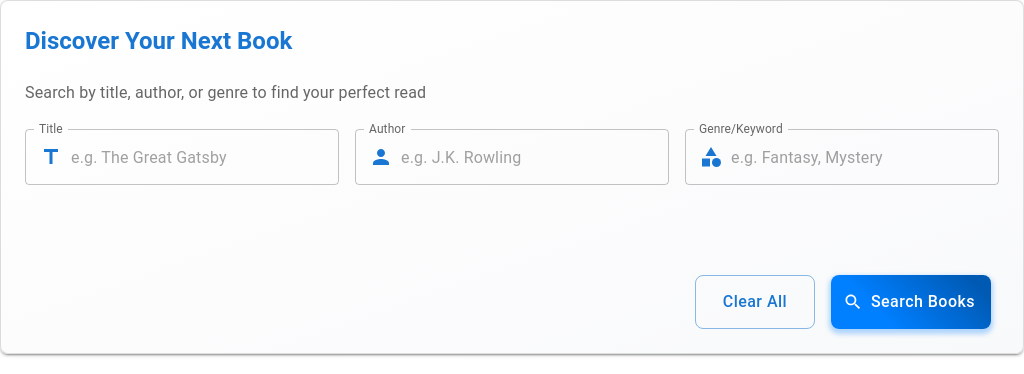
Scenario: SearchForm › handles search error
Step 1. Type "Test Book" into the field labelled "Title" → (205, 157), box left=71, top=129, right=339, bottom=185
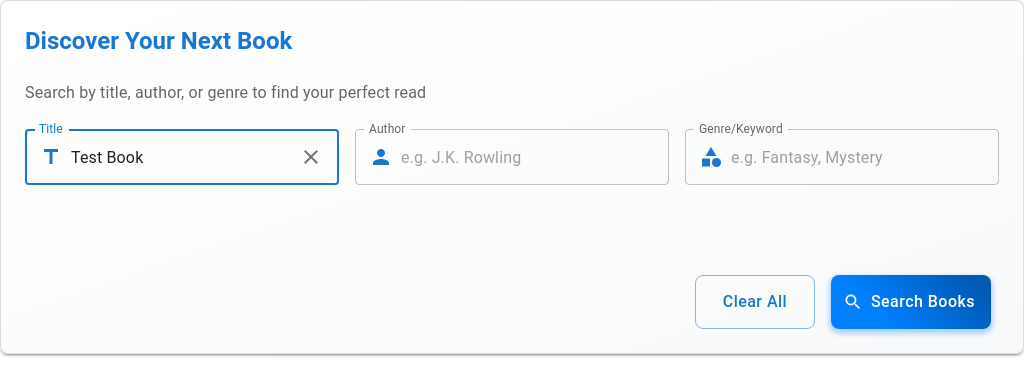
Step 2. Click the button "Search Books" → (911, 302), box left=831, top=275, right=991, bottom=329
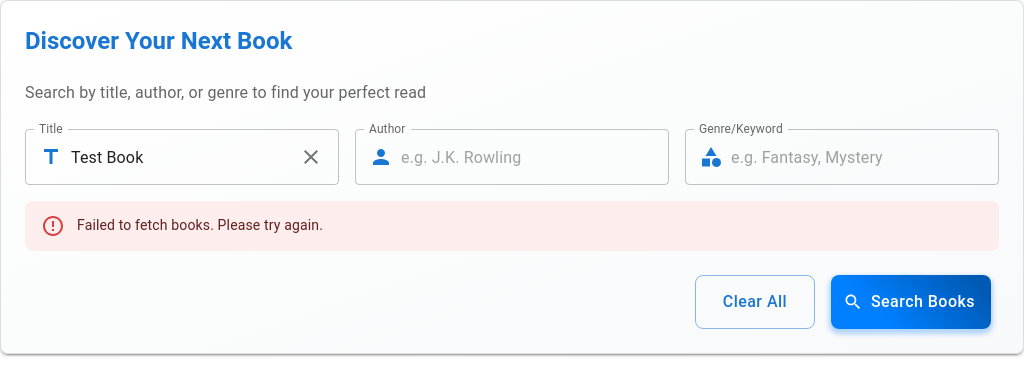
Check: the text "Failed to fetch books. Please try again." is shown, box left=77, top=217, right=323, bottom=233
